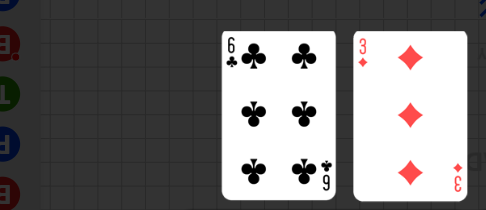6C: (225, 35, 239, 70), (318, 158, 332, 192)
